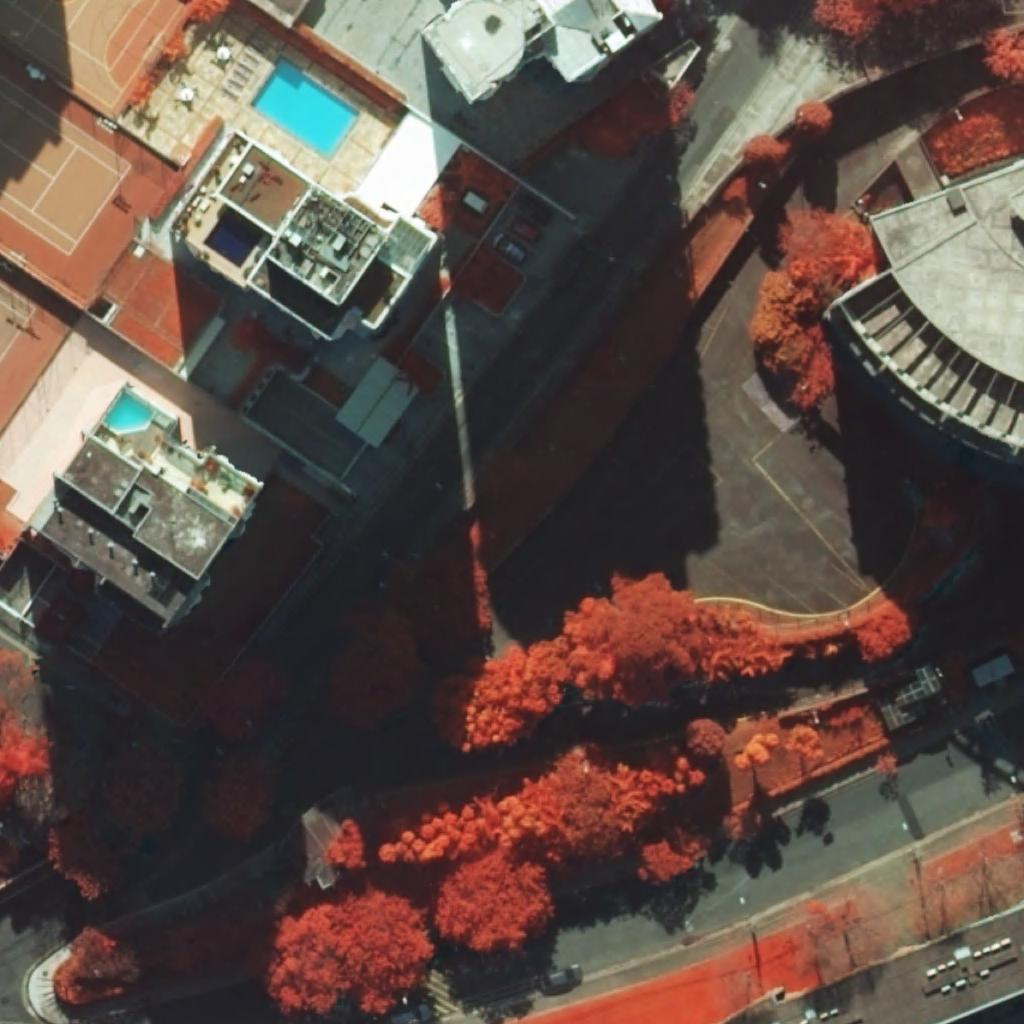pool: (249, 57, 359, 158), (203, 207, 264, 268), (104, 393, 154, 431)
